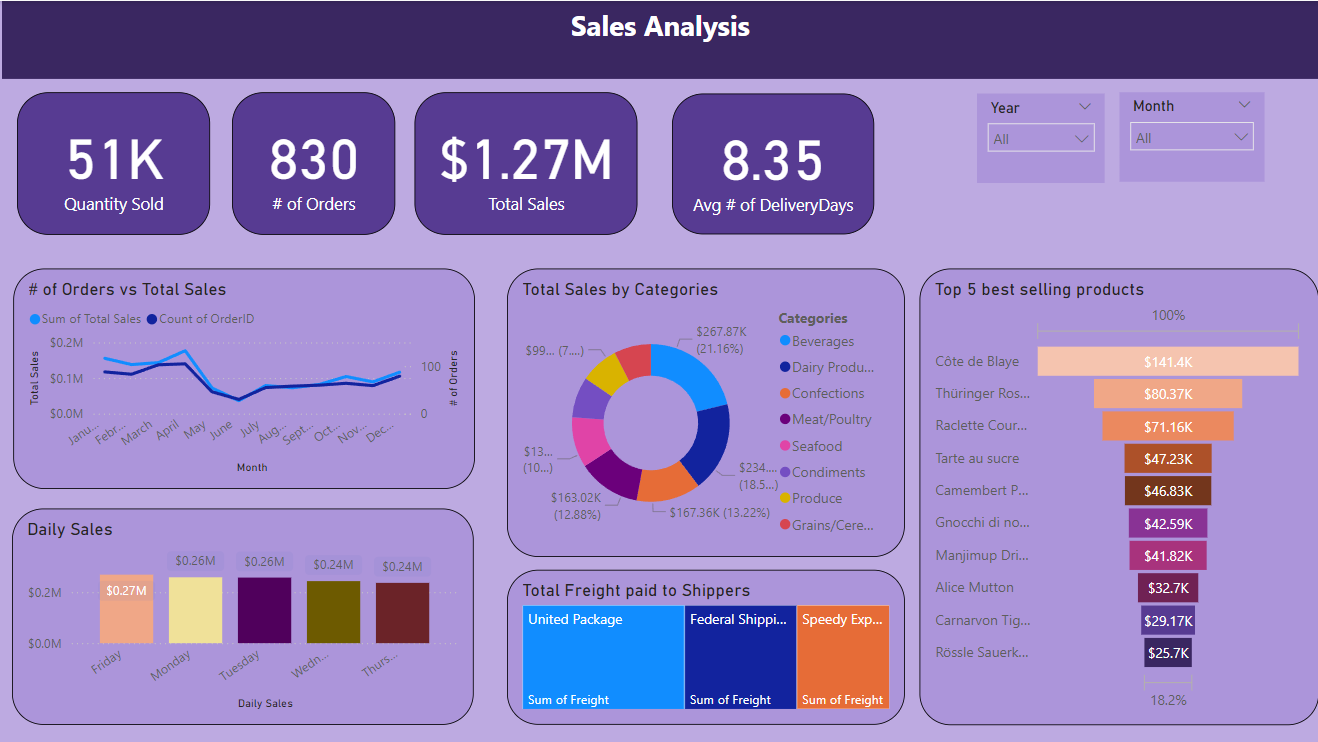

This screenshot's page, from the dashboard's own definition file:
{"tool":"powerbi","page":{"name":"Sales Analysis","canvas":[1280,720],"ordinal":0},"visuals":[{"type":"textbox","box":[9.6,0,1270.7,75.5],"z":0},{"type":"card","fields":{"Values":["Sum(part-00000-tid-8236880057411830936-214854c5-6c20-48b9-b8d4-957e776d3942-523-1-c0.Quantity)"]},"box":[24.7,87.8,186.6,137.2],"z":1000},{"type":"card","fields":{"Values":["Count(part-00000-tid-8236880057411830936-214854c5-6c20-48b9-b8d4-957e776d3942-523-1-c0.OrderID)"]},"box":[231.9,87.8,157.8,137.2],"z":2000},{"type":"card","fields":{"Values":["Sum(part-00000-tid-8236880057411830936-214854c5-6c20-48b9-b8d4-957e776d3942-523-1-c0.TotalPaid)"]},"box":[407.5,87.8,215.4,137.2],"z":3000},{"type":"lineChart","title":"# of Orders vs Total Sales","fields":{"Y":["Sum(part-00000-tid-8236880057411830936-214854c5-6c20-48b9-b8d4-957e776d3942-523-1-c0.Total Sales)"],"Category":["part-00000-tid-8236880057411830936-214854c5-6c20-48b9-b8d4-957e776d3942-523-1-c0.OrderDate.Variation.Date Hierarchy.Mont"],"Y2":["Count(part-00000-tid-8236880057411830936-214854c5-6c20-48b9-b8d4-957e776d3942-523-1-c0.OrderID)"]},"box":[20.6,258,446,212.7],"z":4000},{"type":"columnChart","title":"Daily Sales","fields":{"Y":["Sum(part-00000-tid-8236880057411830936-214854c5-6c20-48b9-b8d4-957e776d3942-523-1-c0.Total Sales)"],"Category":["Northwind.Day"]},"box":[19.2,489.9,446,208.6],"z":4001},{"type":"donutChart","title":"Total Sales by Categories","fields":{"Y":["Sum(Northwind.Total Sales)"],"Category":["Northwind.Prod_CategoryName"]},"box":[496.7,258,384.2,278.6],"z":4002},{"type":"treemap","title":"Total Freight paid to Shippers","fields":{"Group":["Northwind.ShipperName"],"Values":["Count(Northwind.OrderID)","Sum(Northwind.Freight)"]},"box":[496.7,548.9,384.2,149.6],"z":4003},{"type":"funnel","title":"Top 5 best selling products","fields":{"Category":["Northwind.ProductName"],"Y":["Sum(Northwind.Total Sales)"]},"box":[894.7,258,385.6,440.5],"z":4004},{"type":"slicer","fields":{"Values":["Northwind.OrderDate.Variation.Date Hierarchy.Year"]},"box":[950.9,89.2,123.5,86.4],"z":4005},{"type":"slicer","fields":{"Values":["Northwind.OrderDate.Variation.Date Hierarchy.Month"]},"box":[1088.2,87.8,140,86.4],"z":4006},{"type":"card","fields":{"Values":["Avg(Northwind.DeliveryDays)"]},"box":[655.9,89.2,194.9,135.8],"z":4007}]}

Visuals, with their boxes in screenshot pixels (x1, y1, x2, y2), scaled from the page's 1280x720 canvas onto the 1318x742 screenshot:
textbox: bbox=(10, 0, 1317, 78)
card - Sum(part-00000-tid-8236880057411830936-214854c5-6c20-48b9-b8d4-957e776d3942-523-1-c0.Quantity): bbox=(25, 90, 218, 232)
card - Count(part-00000-tid-8236880057411830936-214854c5-6c20-48b9-b8d4-957e776d3942-523-1-c0.OrderID): bbox=(239, 90, 401, 232)
card - Sum(part-00000-tid-8236880057411830936-214854c5-6c20-48b9-b8d4-957e776d3942-523-1-c0.TotalPaid): bbox=(420, 90, 641, 232)
"# of Orders vs Total Sales" lineChart: bbox=(21, 266, 480, 485)
"Daily Sales" columnChart: bbox=(20, 505, 479, 720)
"Total Sales by Categories" donutChart: bbox=(511, 266, 907, 553)
"Total Freight paid to Shippers" treemap: bbox=(511, 566, 907, 720)
"Top 5 best selling products" funnel: bbox=(921, 266, 1317, 720)
slicer - Northwind.OrderDate.Variation.Date Hierarchy.Year: bbox=(979, 92, 1106, 181)
slicer - Northwind.OrderDate.Variation.Date Hierarchy.Month: bbox=(1121, 90, 1265, 180)
card - Avg(Northwind.DeliveryDays): bbox=(675, 92, 876, 232)
